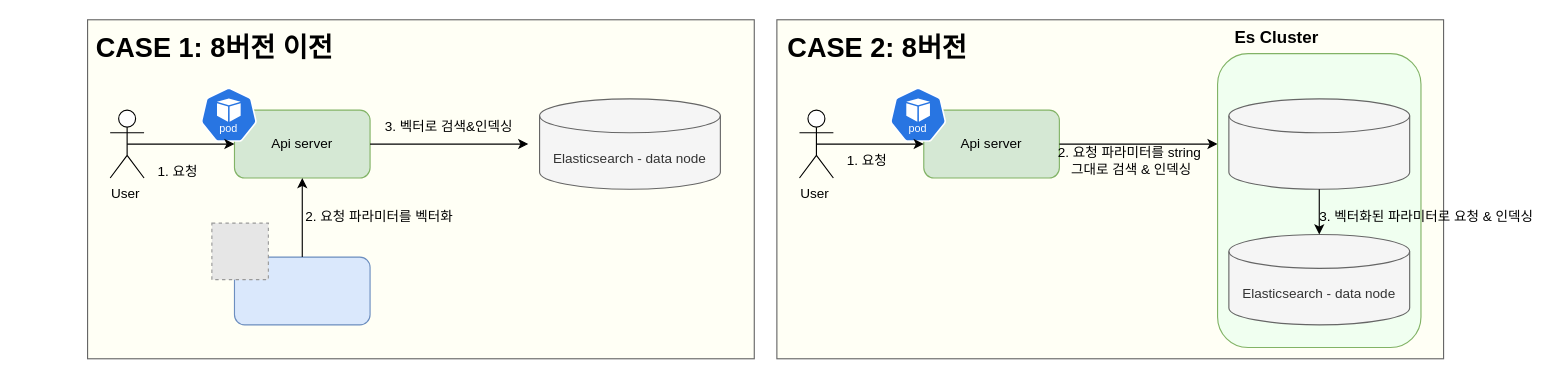
Some shapes in this 1564 by 379 pixel diagram are drawn without their labels. Grey dashed boxes stand in for pictures. Each missing label, with the centre of its shape:
Elasticsearch - ingest node: (1319,143)
ML Model hosting server: (301,290)
